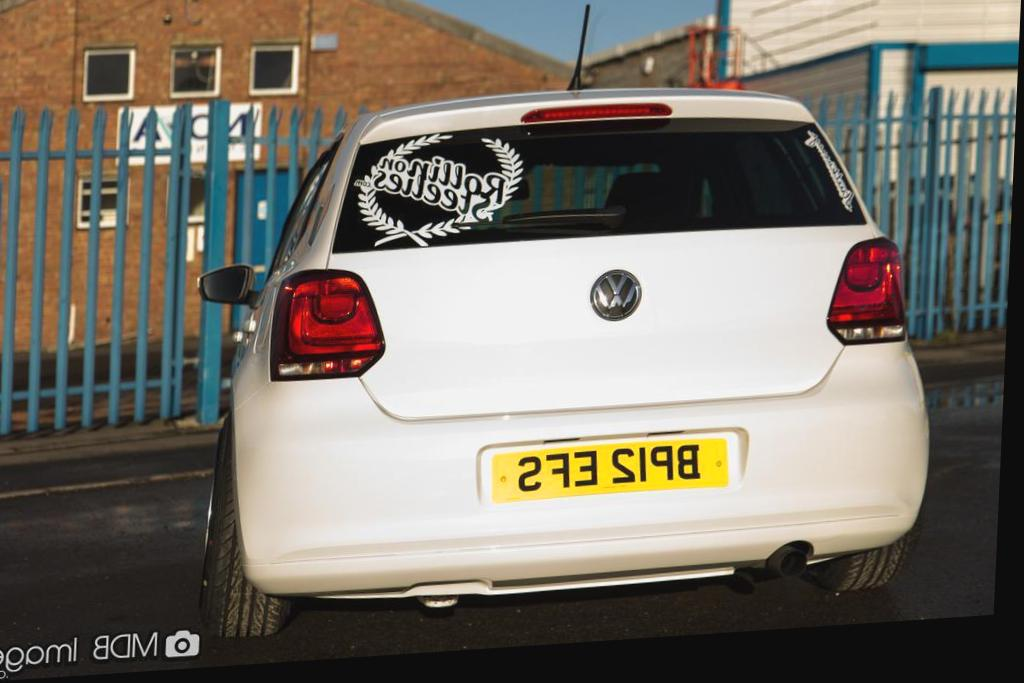License_Plate: (490, 433, 736, 500)
